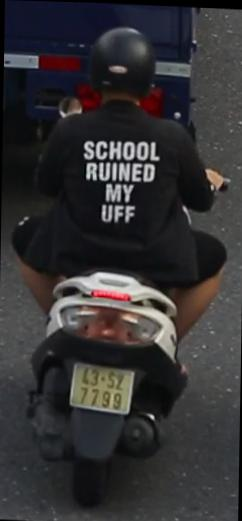LP: (67, 360, 135, 417)
helmet: (86, 20, 160, 111)
